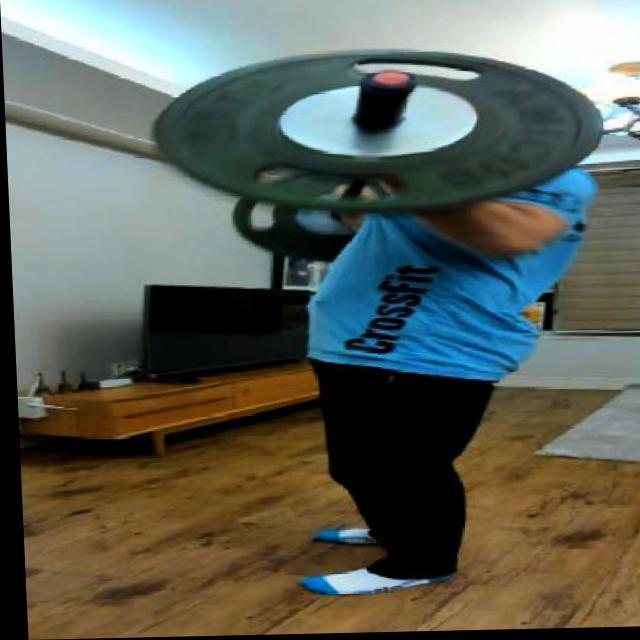barbell: (143, 37, 613, 218)
